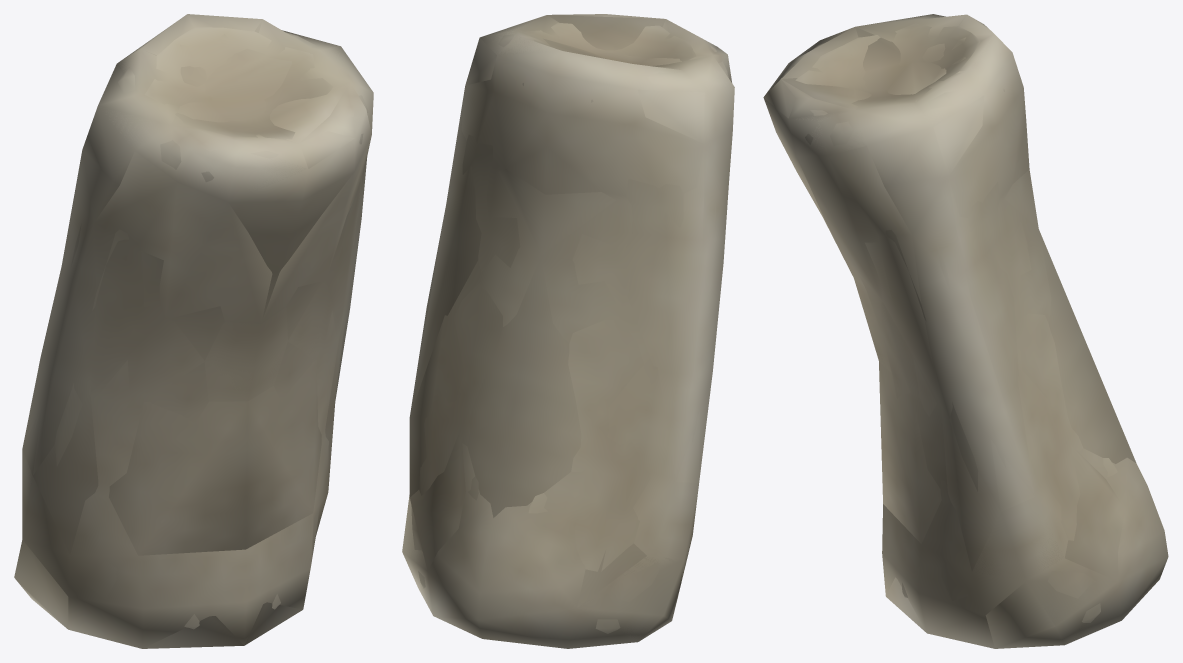
File: vertebrae caudales 11.fbx
3 renders of one model, left to right at view 1: azimuth 30°, elevation 25°; view 2: azimuth 150°, elevation 25°; view 3: azimuth 270°, elevation 25°, orthographic. The views are drawn at different scales.
Visible parts, largest first — view 1: vertebrae caudales 11, vertebrae caudales 11 low, vertebrae caudales 11 high; view 2: vertebrae caudales 11, vertebrae caudales 11 low, vertebrae caudales 11 high; view 3: vertebrae caudales 11, vertebrae caudales 11 low, vertebrae caudales 11 high.
Boxes of the visible parts, x1,y1,x2,y2 form: vertebrae caudales 11: (15, 14, 373, 648); vertebrae caudales 11 low: (14, 20, 373, 648); vertebrae caudales 11 high: (34, 27, 368, 629); vertebrae caudales 11: (402, 14, 734, 648); vertebrae caudales 11 low: (403, 15, 732, 638); vertebrae caudales 11 high: (411, 23, 728, 633); vertebrae caudales 11: (763, 14, 1168, 648); vertebrae caudales 11 low: (763, 18, 1136, 648); vertebrae caudales 11 high: (784, 23, 1117, 622).
Size of the model in its own units: 0.6903 by 1.31 by 0.8394.
Materials: 1 (1 with a texture image).
